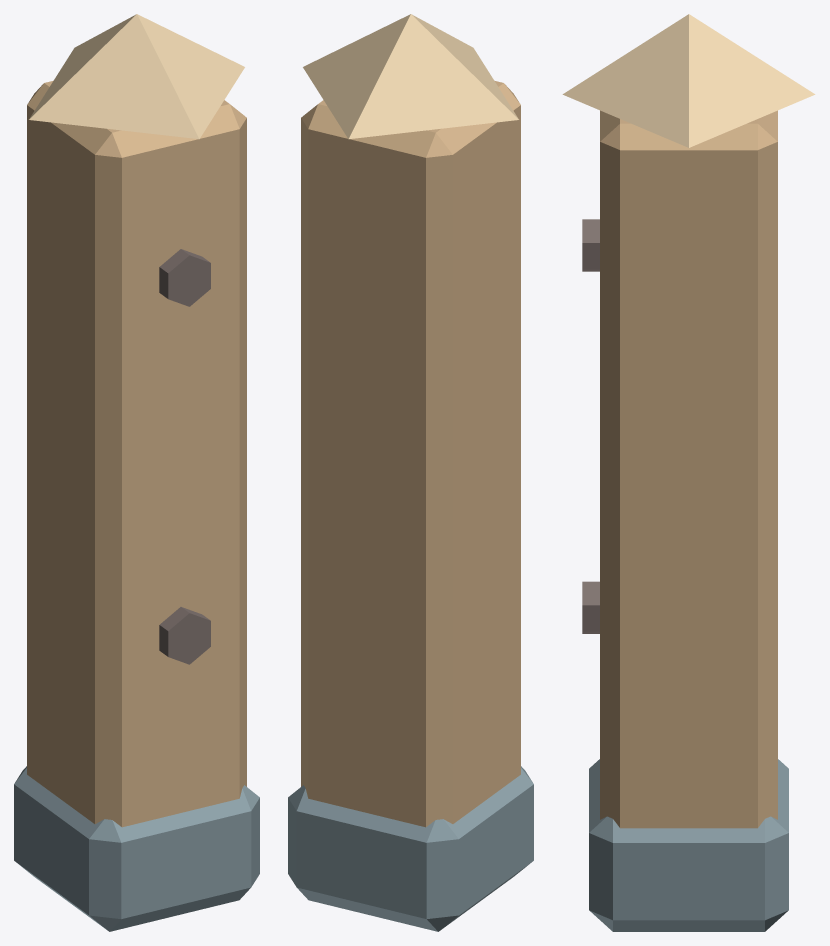
The model's file is fence_post.fbx.
The picture shows the model from 3 angles, left to right: view 1: azimuth 30°, elevation 25°; view 2: azimuth 150°, elevation 25°; view 3: azimuth 270°, elevation 25°; orthographic projection.
Visible parts, largest first — view 1: fence_post_mesh; view 2: fence_post_mesh; view 3: fence_post_mesh.
Boxes of the visible parts, x1,y1,x2,y2 form: fence_post_mesh: (14, 14, 259, 931); fence_post_mesh: (288, 14, 533, 931); fence_post_mesh: (562, 14, 815, 931).
Bounding box in the file's own units: 0.228 × 0.88 × 0.228.
